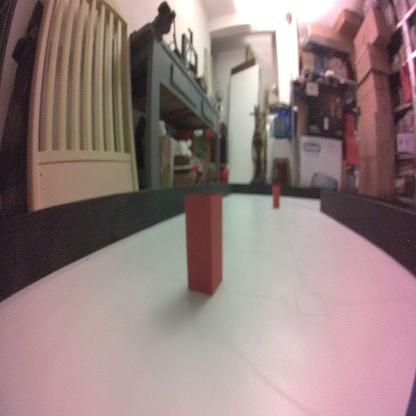red: (184, 190, 224, 297), (273, 185, 279, 208)
